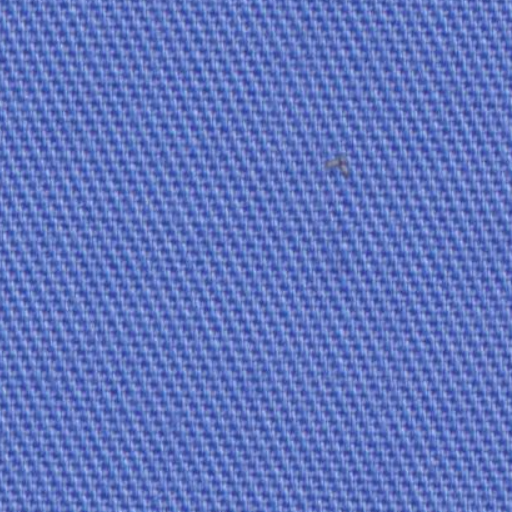WuZi: (316, 147, 372, 188)
